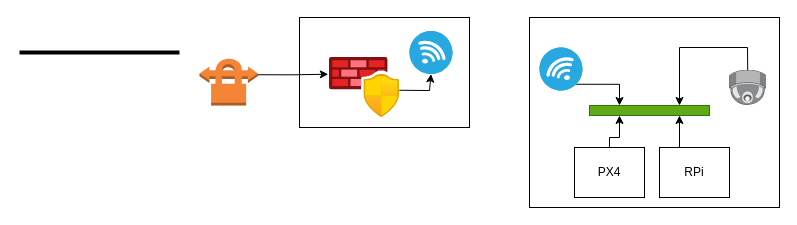
Some shapes in this 797 by 225 pixel diagram are drawn without their labels. Each missing label, with the box of its shape:
Drone Onboard: (528, 16, 780, 208)
Fortigate Firewall: (298, 16, 470, 128)
